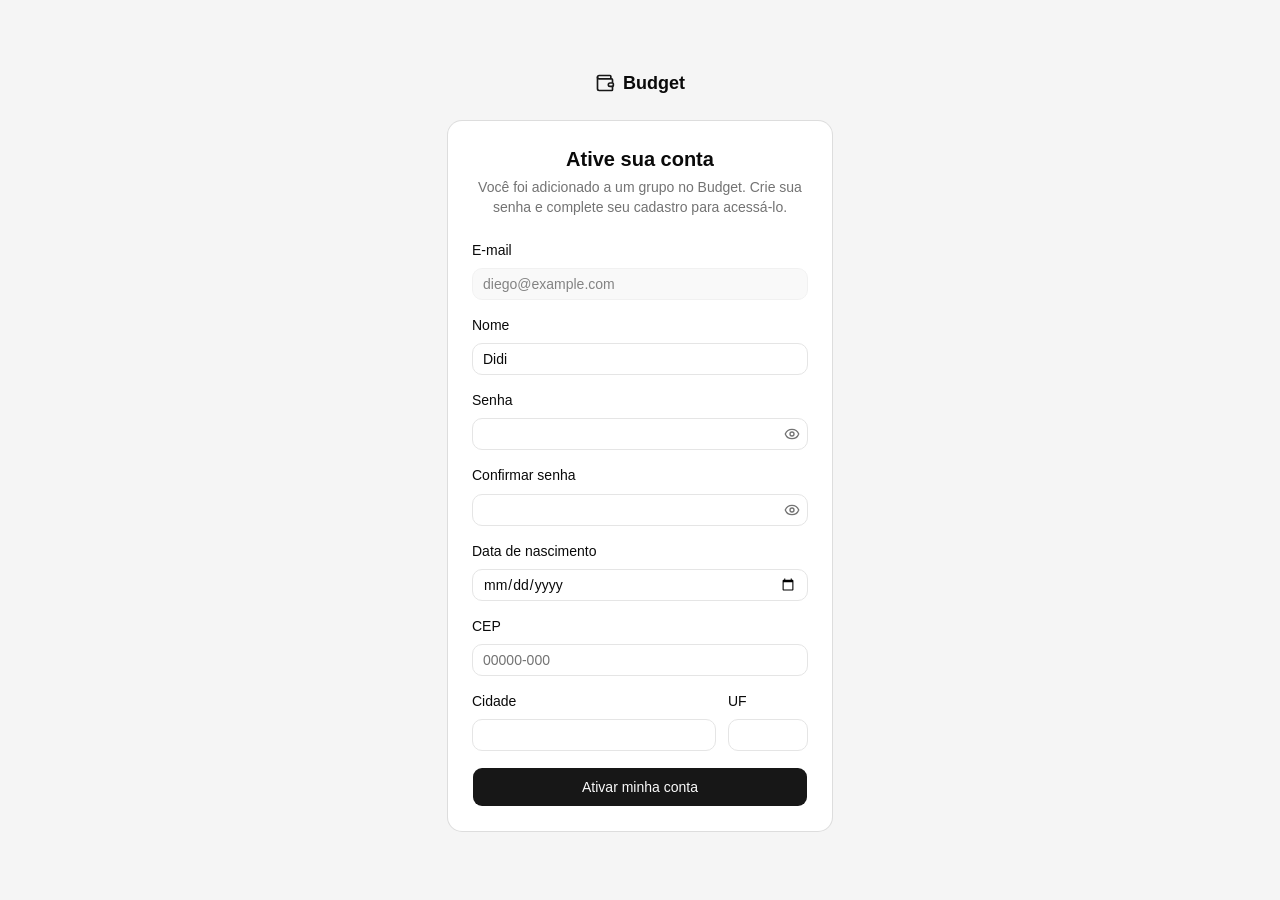
Test: Activation route (/ativar-conta) › pre-registration link › finishes the sign-up and opens the groups signed in
Expected: the heading "Ative sua conta" is shown, x1=566 y1=148 x2=714 y2=170
Replace the text in the field labelled "Nome" with " Diego Alves " at {"x": 640, "y": 359}, box x1=472 y1=343 x2=808 y2=375
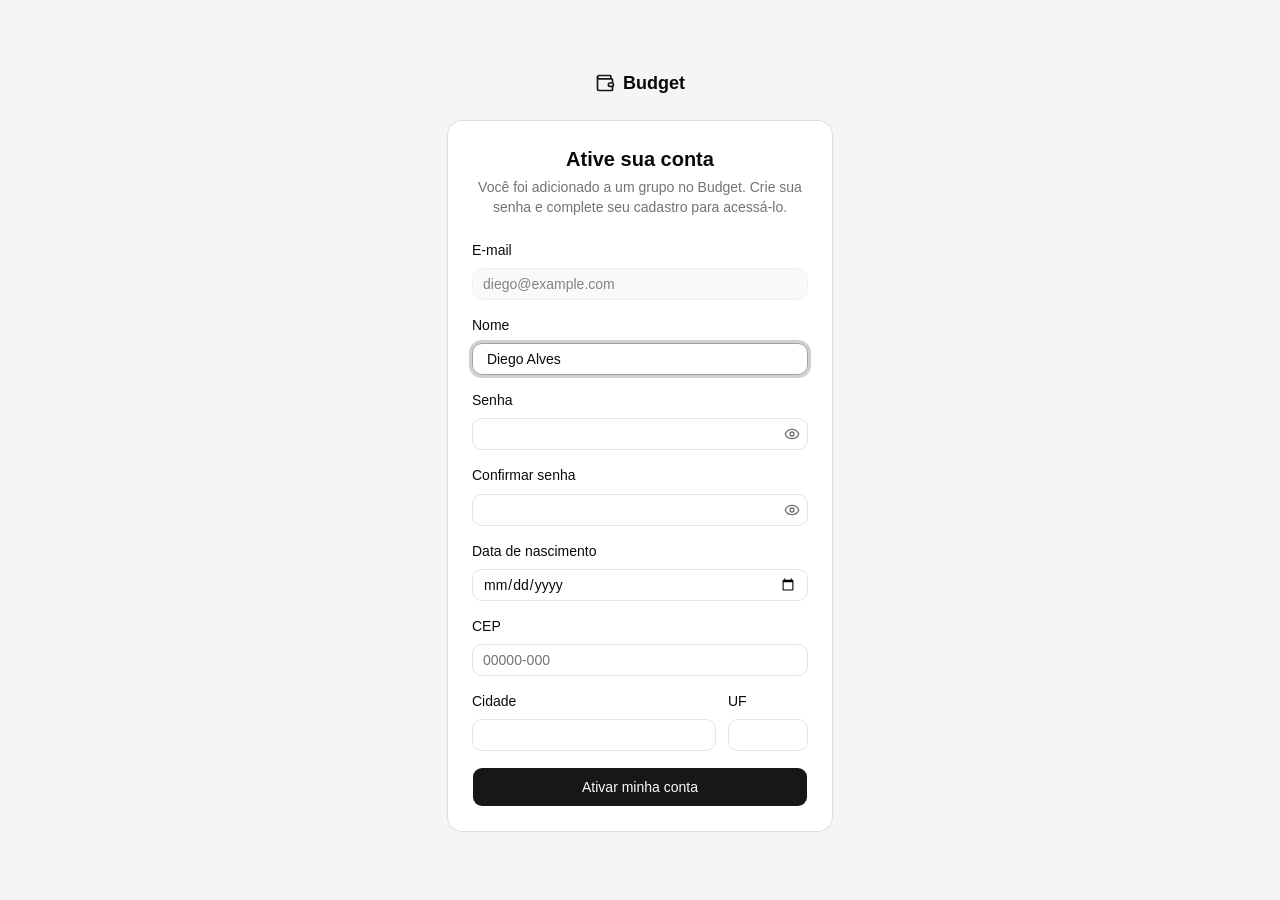
Type "segredo123" into the password field labelled "Senha" at {"x": 640, "y": 434}, box x1=472 y1=418 x2=808 y2=450
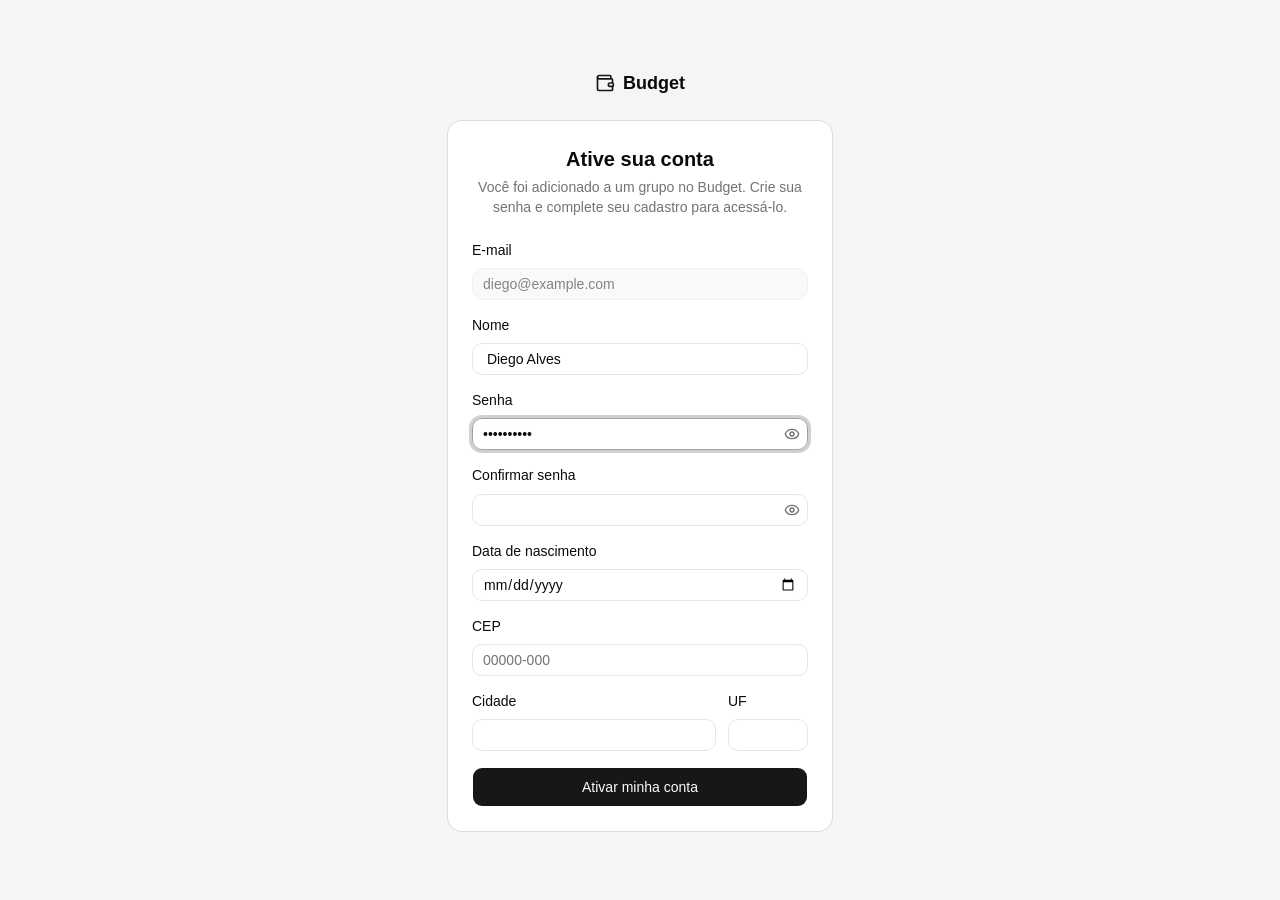
Type "segredo123" into the password field labelled "Confirmar senha" at {"x": 640, "y": 510}, box x1=472 y1=494 x2=808 y2=526
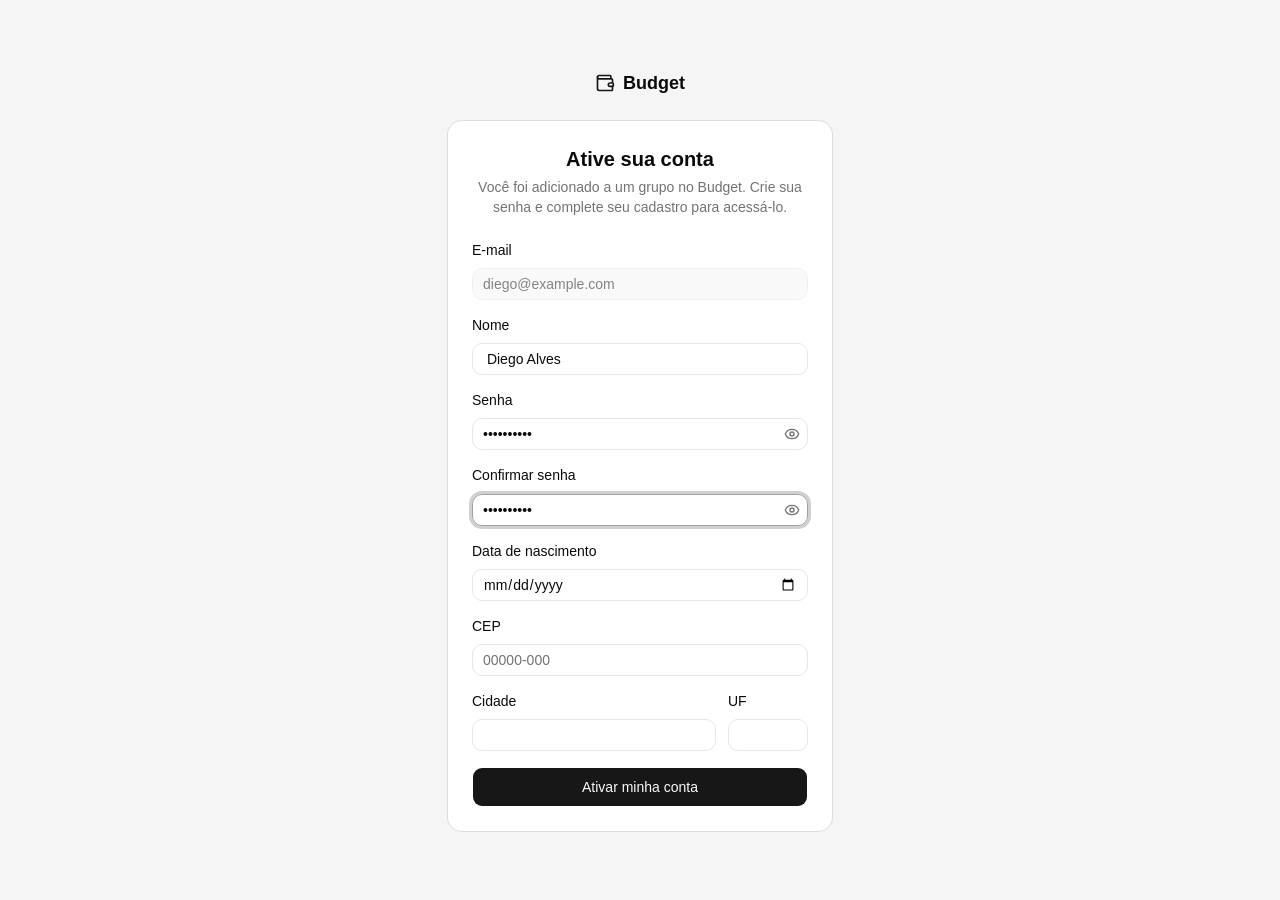
Type "1990-05-20" into the date field labelled "Data de nascimento" at {"x": 640, "y": 585}, box x1=472 y1=569 x2=808 y2=601
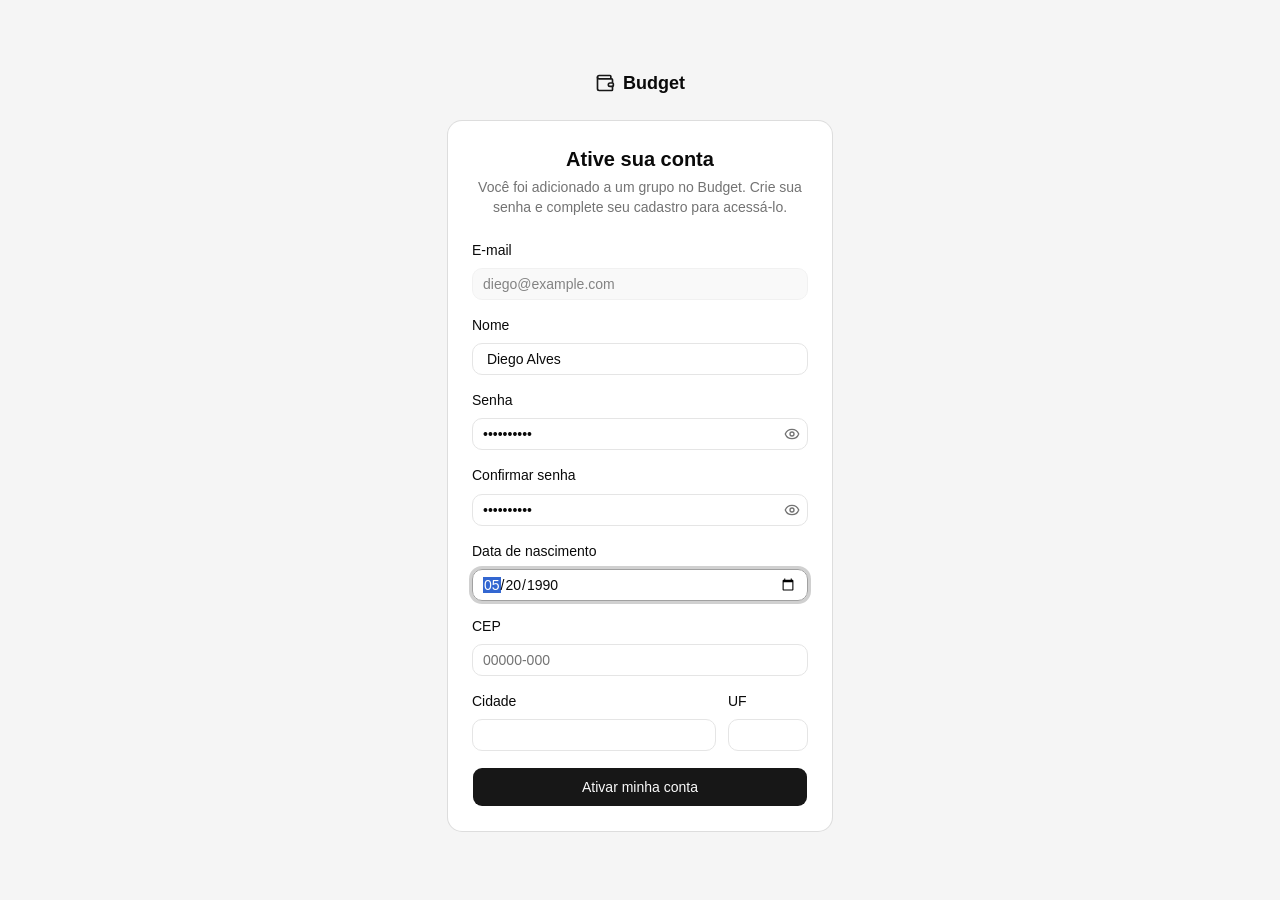
Type "01001000" into the field labelled "CEP" at {"x": 640, "y": 660}, box x1=472 y1=644 x2=808 y2=676
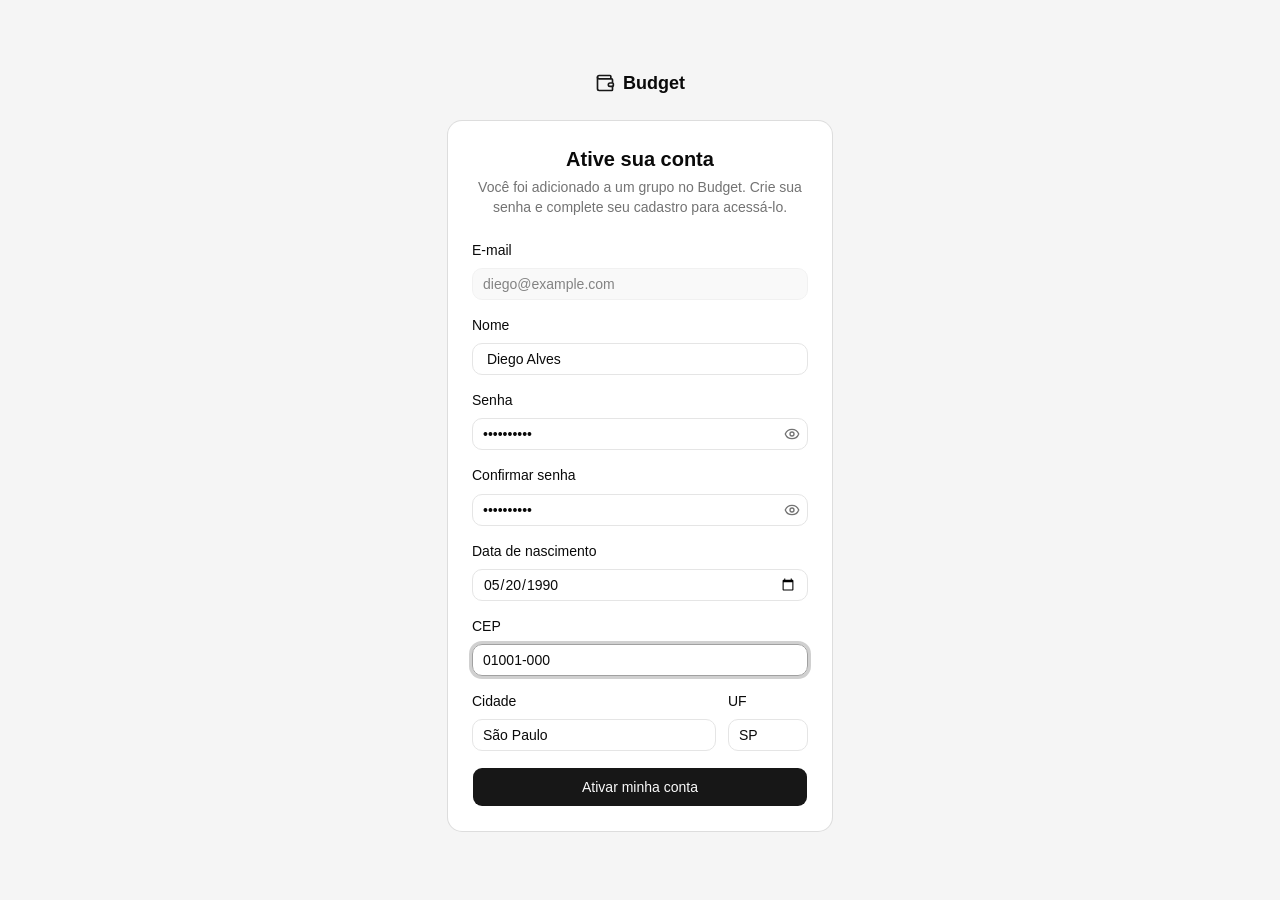
Expected: the field labelled "Cidade" holds "São Paulo", x1=472 y1=719 x2=716 y2=751
Click the button "Ativar minha conta" at {"x": 640, "y": 787}, box x1=472 y1=767 x2=808 y2=807
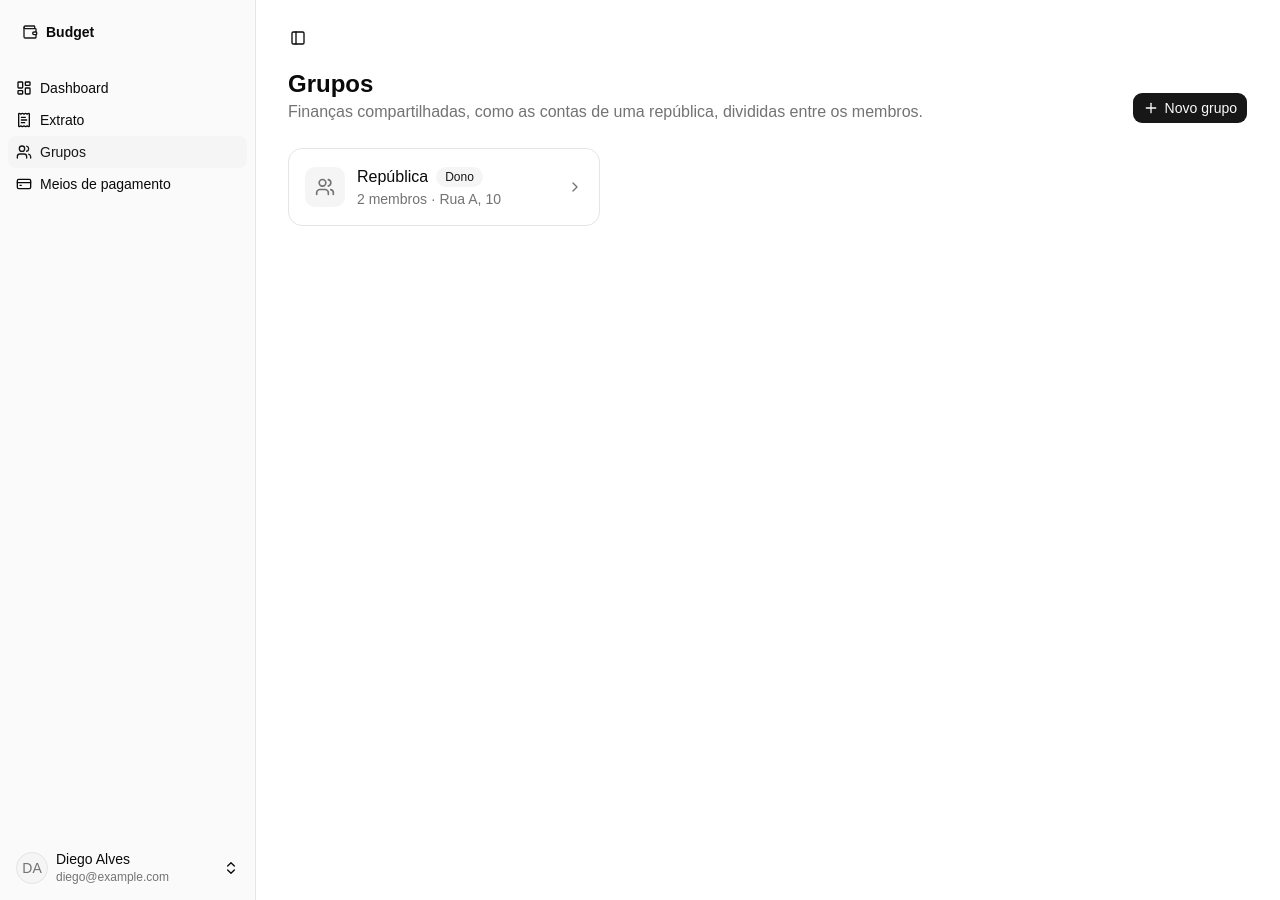
Expected: the heading "Grupos" is shown, x1=288 y1=70 x2=373 y2=97
